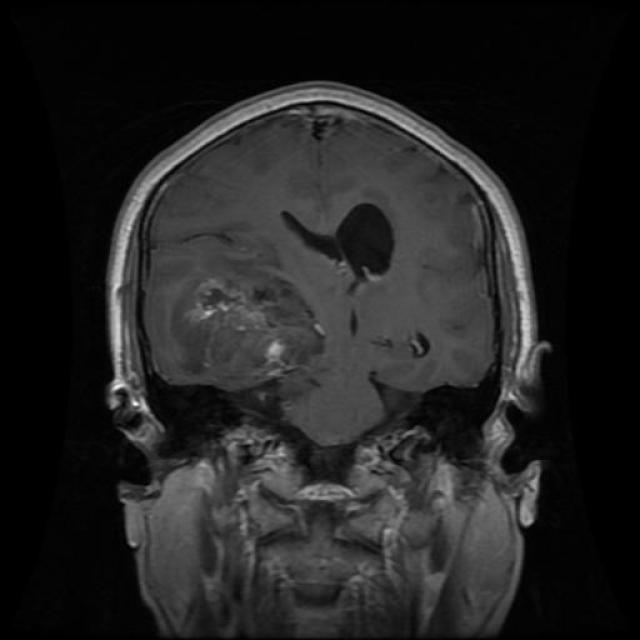glioma: (282, 201, 398, 290)
